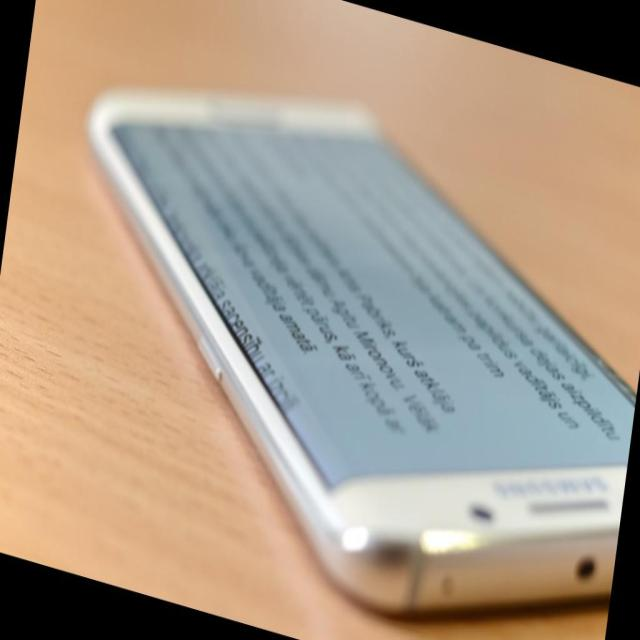handphone: (111, 87, 640, 610)
